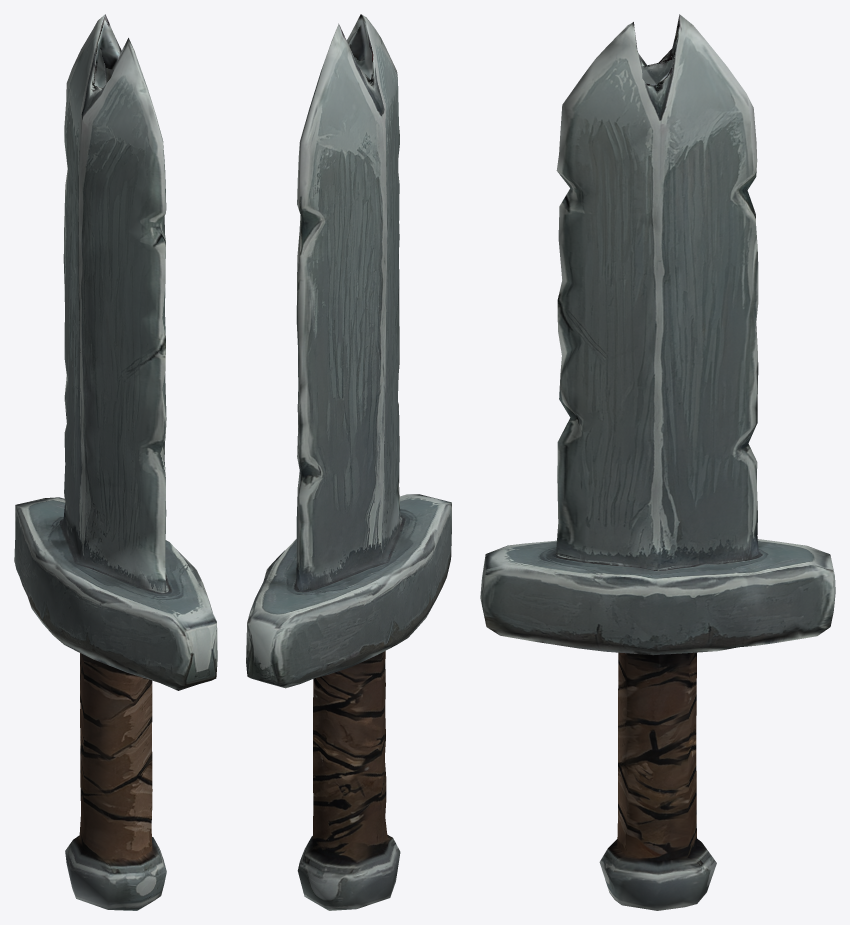
The model's file is Prop_Weapon_Shortsword.fbx.
3 renders of one model, left to right at view 1: azimuth 30°, elevation 25°; view 2: azimuth 150°, elevation 25°; view 3: azimuth 270°, elevation 25°, orthographic.
Visible parts, largest first — view 1: texture_mapping; view 2: texture_mapping; view 3: texture_mapping.
Part boxes in pixels (x1,y1,x2,y2): texture_mapping: [14, 14, 217, 910]; texture_mapping: [246, 14, 451, 910]; texture_mapping: [480, 14, 835, 910].
Size of the model in its own units: 0.1366 by 0.355 by 0.9841.
Materials: 1 (1 with a texture image).
